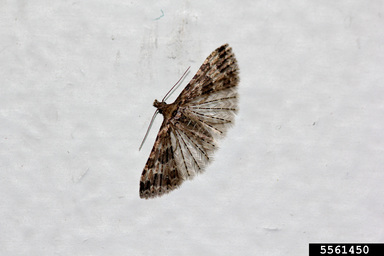Alucitidae: (134, 41, 251, 198)
moth: (132, 41, 249, 198)
